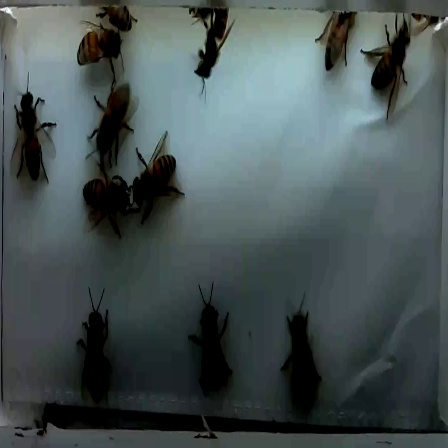bee: (174, 279, 244, 406), (271, 292, 330, 414), (69, 286, 121, 409), (4, 77, 58, 194), (129, 128, 187, 228), (361, 11, 413, 122), (68, 160, 132, 241), (187, 4, 236, 104), (62, 15, 133, 83), (86, 75, 135, 172), (311, 6, 359, 77)
